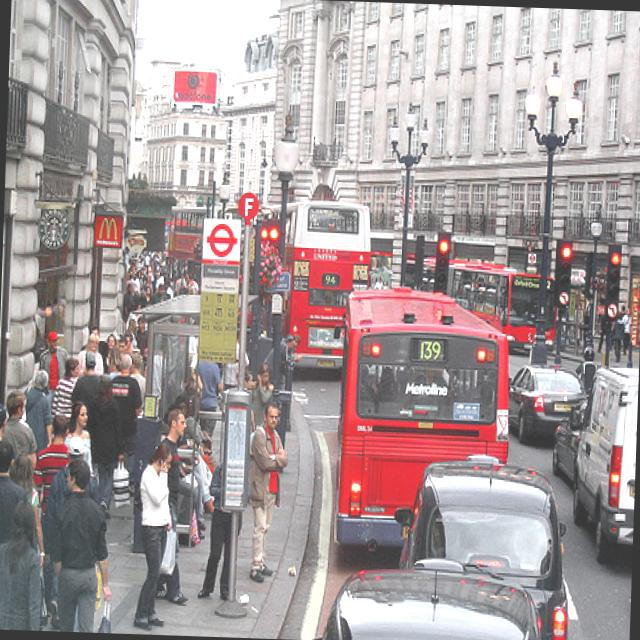Vehicle: (328, 282, 516, 552), (386, 455, 571, 640), (367, 252, 558, 354), (314, 557, 547, 640), (280, 202, 374, 374), (568, 360, 638, 566), (506, 360, 590, 449), (550, 394, 590, 492)
